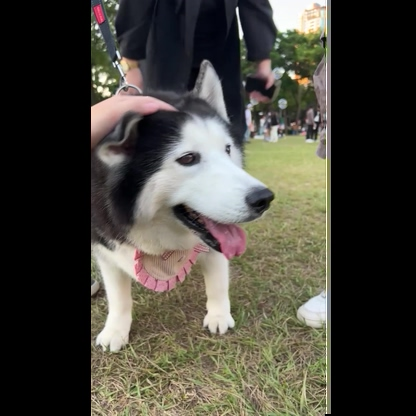husky: (95, 58, 278, 352)
